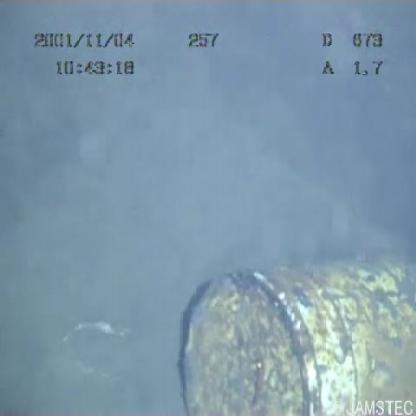Rác: (154, 255, 416, 416)
